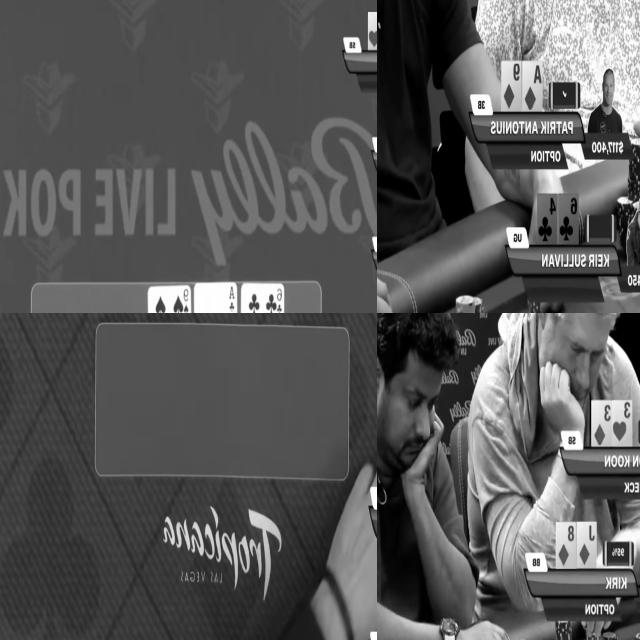3D: (591, 401, 612, 445)
3H: (612, 401, 632, 446)
4C: (538, 196, 557, 244)
6C: (559, 196, 578, 244)
8D: (555, 522, 577, 569)
9D: (502, 64, 521, 110)
9H: (367, 12, 377, 48)
AD: (522, 62, 542, 110)
JD: (576, 522, 597, 569)
